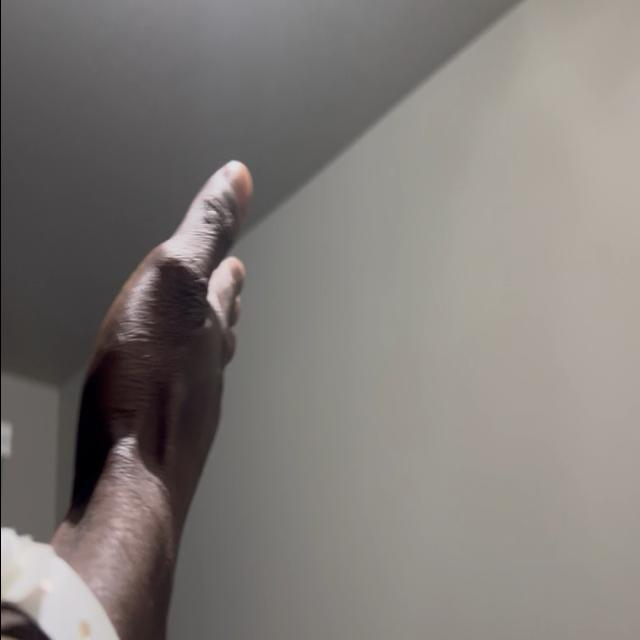Paper: (66, 160, 252, 526)
